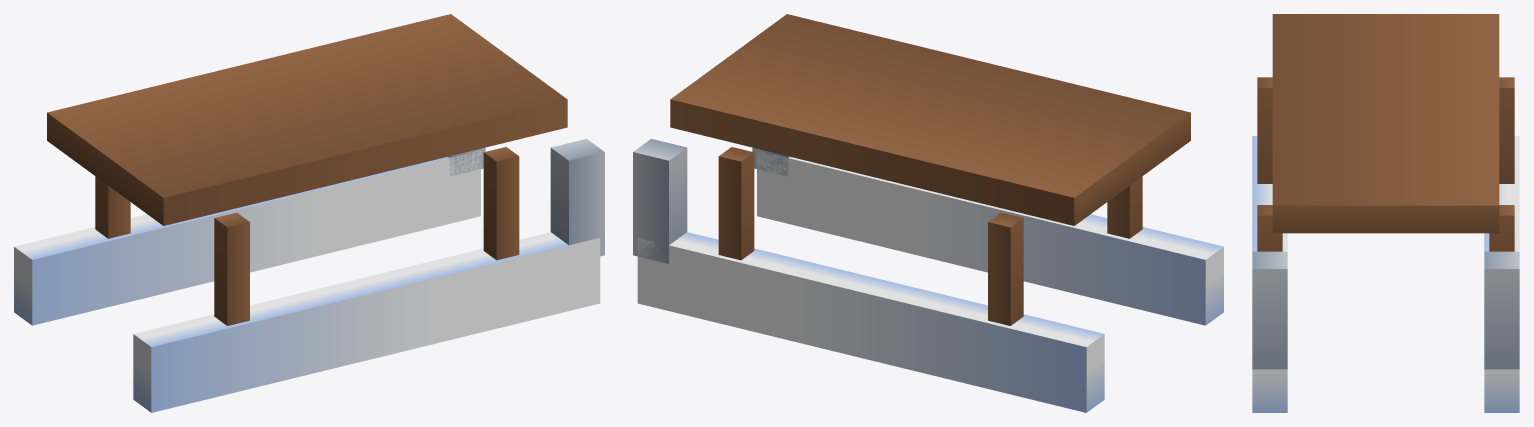
Rendered from toy_sled.fbx.
3 views of the same model, side by side, from view 1: azimuth 30°, elevation 25°; view 2: azimuth 150°, elevation 25°; view 3: azimuth 270°, elevation 25° (orthographic). The views are drawn at different scales.
Parts seen in each view (by area): view 1: toy_sled; view 2: toy_sled; view 3: toy_sled.
Part boxes in pixels (x1,y1,x2,y2): toy_sled: (14,14,604,412); toy_sled: (633,14,1223,412); toy_sled: (1252,14,1519,412).
Bounding box in the file's own units: 320 × 136 × 168.
